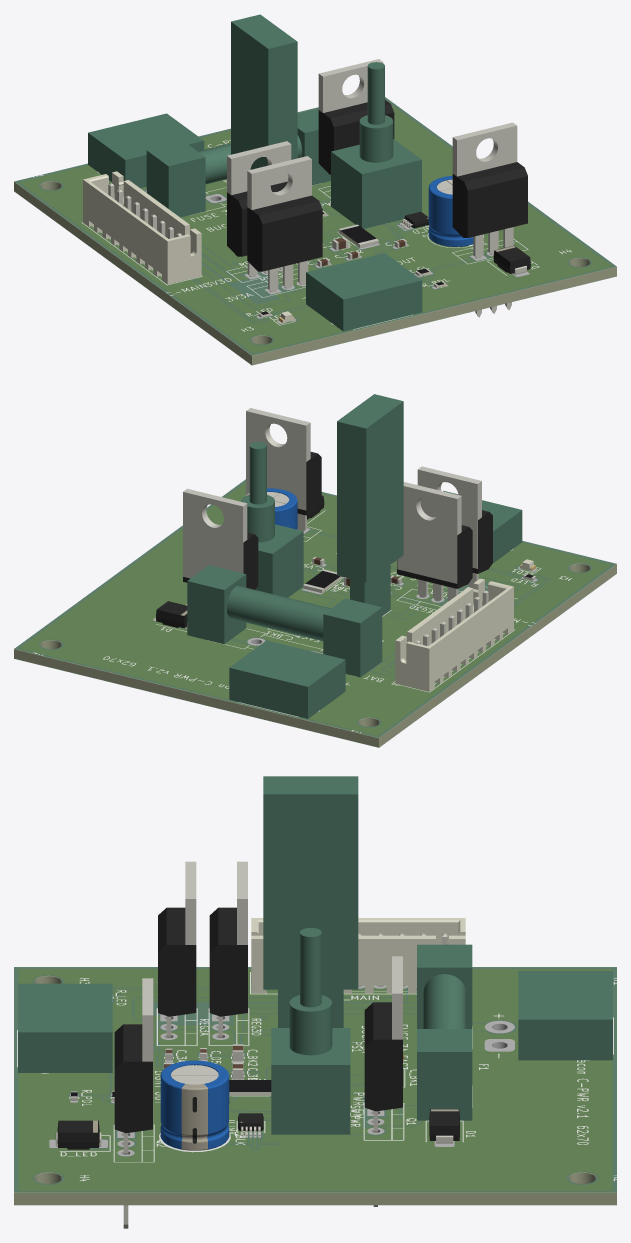
The model's file is child_pwr.glb.
3 renders of one model, top to bottom at view 1: azimuth 30°, elevation 25°; view 2: azimuth 150°, elevation 25°; view 3: azimuth 270°, elevation 25°, orthographic. The views are drawn at different scales.
Parts seen in each view (by area): view 1: =>[0:1:1:2] (×9), =>[0:1:1:26], =>[0:1:1:22], =>[0:1:1:28], Q2, J_MAIN, REG3A, Q1, REG3D, C_BLK, =>[0:1:1:25], D_LED (+3 smaller); view 2: =>[0:1:1:2] (×10), =>[0:1:1:26], =>[0:1:1:22], =>[0:1:1:28], J_MAIN, REG3D, Q1, Q2, REG3A, =>[0:1:1:25], C_BLK, D1 (+2 smaller); view 3: =>[0:1:1:26], =>[0:1:1:22], =>[0:1:1:2] (×10), =>[0:1:1:28], J_MAIN, C_BLK, Q2, REG3A, REG3D, Q1, =>[0:1:1:25], =>[0:1:1:23] (+3 smaller).
Part boxes in pixels (box(x1,y1,x2,y2)): =>[0:1:1:2] (×9): box(88, 14, 422, 331); =>[0:1:1:26]: box(14, 97, 616, 355); =>[0:1:1:22]: box(19, 106, 610, 353); =>[0:1:1:28]: box(14, 98, 616, 364); Q2: box(452, 122, 527, 317); J_MAIN: box(83, 171, 201, 284); REG3A: box(247, 156, 322, 292); Q1: box(318, 59, 394, 174); REG3D: box(227, 141, 291, 277); C_BLK: box(428, 176, 473, 246); =>[0:1:1:25]: box(33, 139, 571, 331); D_LED: box(493, 245, 530, 274); =>[0:1:1:2] (×10): box(187, 394, 522, 718); =>[0:1:1:26]: box(14, 479, 616, 737); =>[0:1:1:22]: box(19, 483, 610, 735); =>[0:1:1:28]: box(14, 480, 616, 747); J_MAIN: box(395, 578, 513, 691); REG3D: box(397, 482, 472, 601); Q1: box(183, 488, 258, 589); Q2: box(246, 408, 321, 531); REG3A: box(417, 466, 492, 587); =>[0:1:1:25]: box(33, 510, 571, 733); C_BLK: box(245, 488, 297, 529); D1: box(156, 601, 187, 628); =>[0:1:1:26]: box(14, 967, 616, 1192); =>[0:1:1:22]: box(19, 969, 611, 1190); =>[0:1:1:2] (×10): box(18, 776, 612, 1134); =>[0:1:1:28]: box(14, 968, 616, 1204); J_MAIN: box(251, 918, 465, 993); C_BLK: box(160, 1060, 229, 1150); Q2: box(114, 978, 153, 1228); REG3A: box(158, 861, 196, 1038); REG3D: box(209, 861, 247, 1038); Q1: box(364, 956, 402, 1206); =>[0:1:1:25]: box(17, 972, 616, 1181); =>[0:1:1:23]: box(49, 985, 514, 1156).
Size of the model in its own units: 0.062 by 0.0433 by 0.07.
